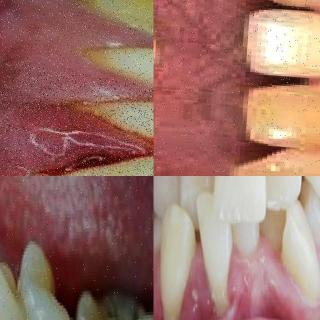Gum Swelling: (0, 105, 150, 176)
cavities: (83, 297, 153, 320)
maligned: (273, 206, 320, 309), (154, 210, 196, 320), (197, 199, 235, 320), (213, 176, 267, 222), (256, 196, 292, 254)
